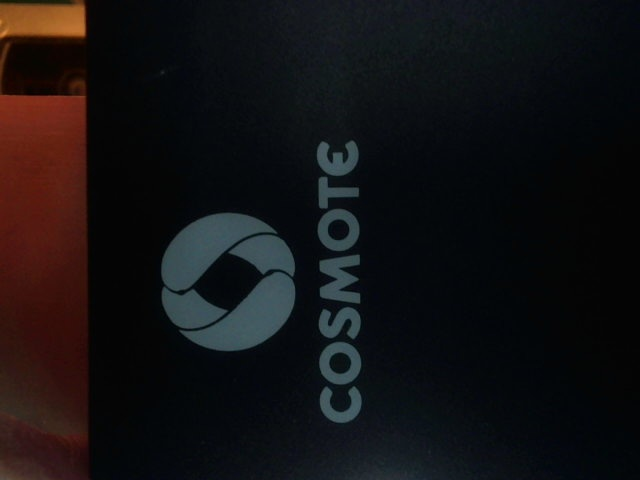AU_COSMOTE: (139, 139, 396, 430)
